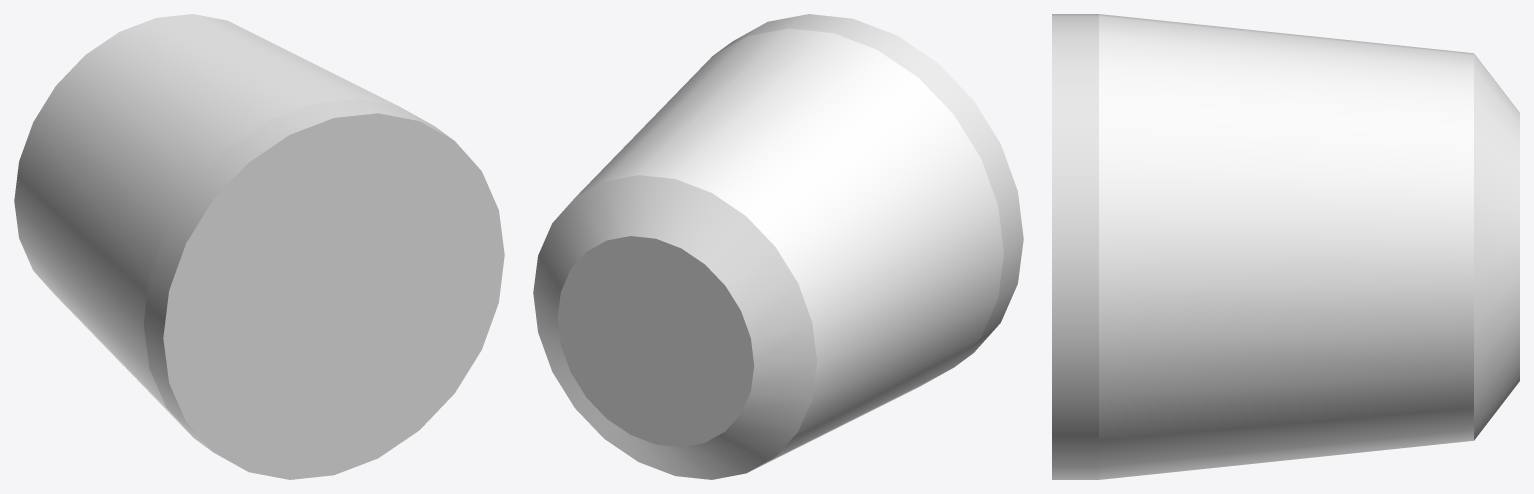
The model's file is Light_JingShiDeng_1X1_off.FBX.
3 views of the same model, side by side, from view 1: azimuth 30°, elevation 25°; view 2: azimuth 150°, elevation 25°; view 3: azimuth 270°, elevation 25° (orthographic). The views are drawn at different scales.
Parts seen in each view (by area): view 1: Box002; view 2: Box002; view 3: Box002.
Boxes of the visible parts, x1,y1,x2,y2 form: Box002: (14,14,504,479); Box002: (533,14,1023,479); Box002: (1052,14,1519,479).
Size of the model in its own units: 1 by 1 by 1.
